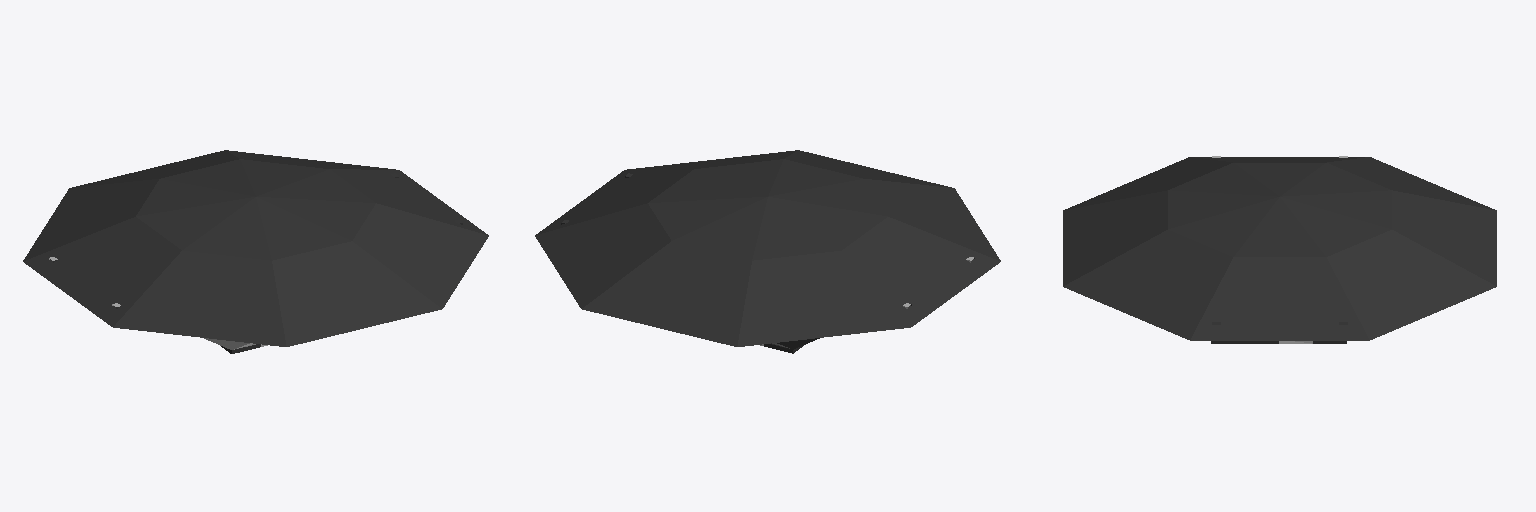
File: Extra.obj
3 views of the same model, side by side, from view 1: azimuth 30°, elevation 25°; view 2: azimuth 150°, elevation 25°; view 3: azimuth 270°, elevation 25° (orthographic).
Parts seen in each view (by area): view 1: Shape_IndexedFaceSet.1753; view 2: Shape_IndexedFaceSet.1753; view 3: Shape_IndexedFaceSet.1753.
Boxes of the visible parts, box(x1,y1,x2,y2) form: Shape_IndexedFaceSet.1753: box(23, 150, 488, 346); Shape_IndexedFaceSet.1753: box(535, 150, 1000, 346); Shape_IndexedFaceSet.1753: box(1063, 157, 1496, 340).
Bounding box in the file's own units: 1.44 × 0.4335 × 1.44.